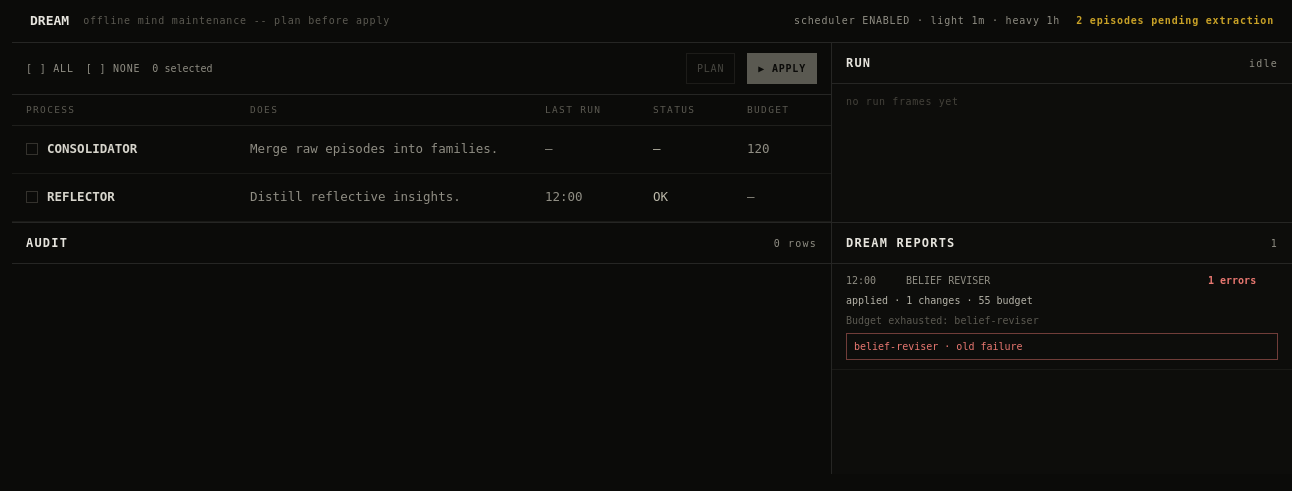
it: Dream page › renders pending extraction only when nonzero and handles selection toolbar
Expected: the text "2 episodes pending extraction" is shown, left=1076, top=13, right=1274, bottom=28
Expected: the text "0 selected" is shown, left=152, top=60, right=212, bottom=76
Click the text "CONSOLIDATOR".
click(92, 149)  # box left=47, top=140, right=137, bottom=159
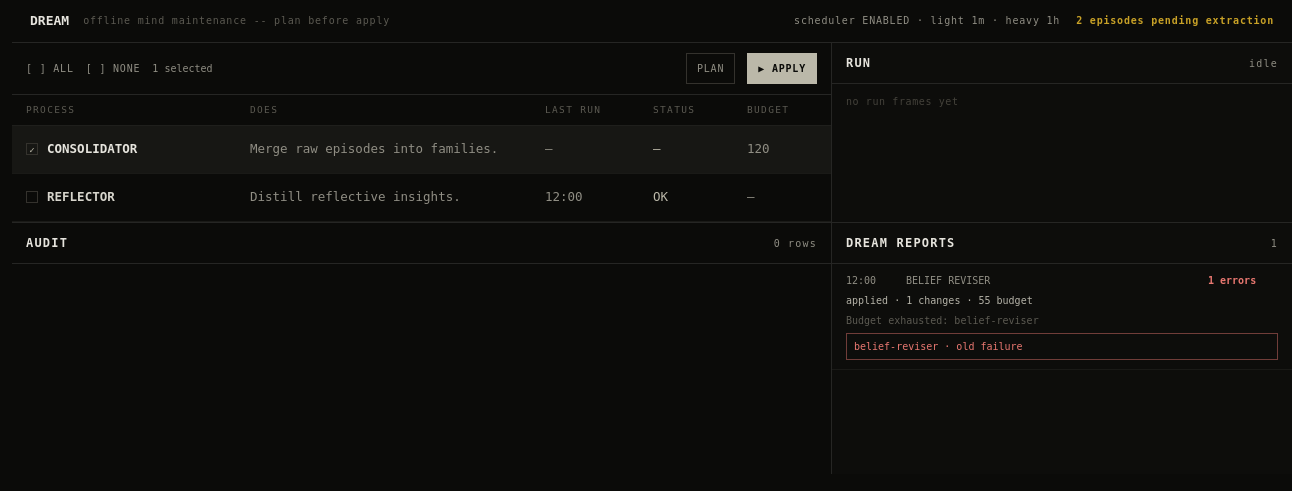
Now the text "1 selected" is shown, box left=152, top=60, right=212, bottom=76
Now the button "PLAN" is enabled, box left=686, top=52, right=735, bottom=84
